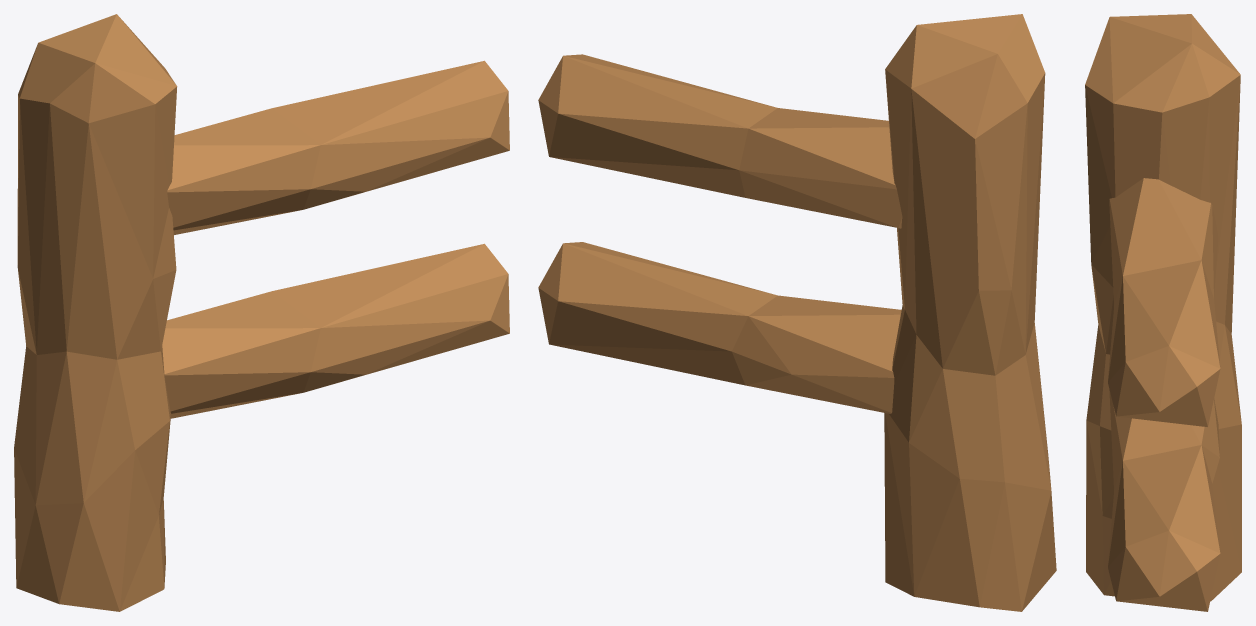
Rendered from valla.fbx.
3 renders of one model, left to right at view 1: azimuth 30°, elevation 25°; view 2: azimuth 150°, elevation 25°; view 3: azimuth 270°, elevation 25°, orthographic. The views are drawn at different scales.
Visible parts, largest first — view 1: Cube.031; view 2: Cube.031; view 3: Cube.031.
Part boxes in pixels (x1,y1,x2,y2): Cube.031: [14, 14, 509, 611]; Cube.031: [538, 14, 1056, 611]; Cube.031: [1085, 14, 1241, 611].
Bounding box in the file's own units: 238 × 260 × 66.64.
